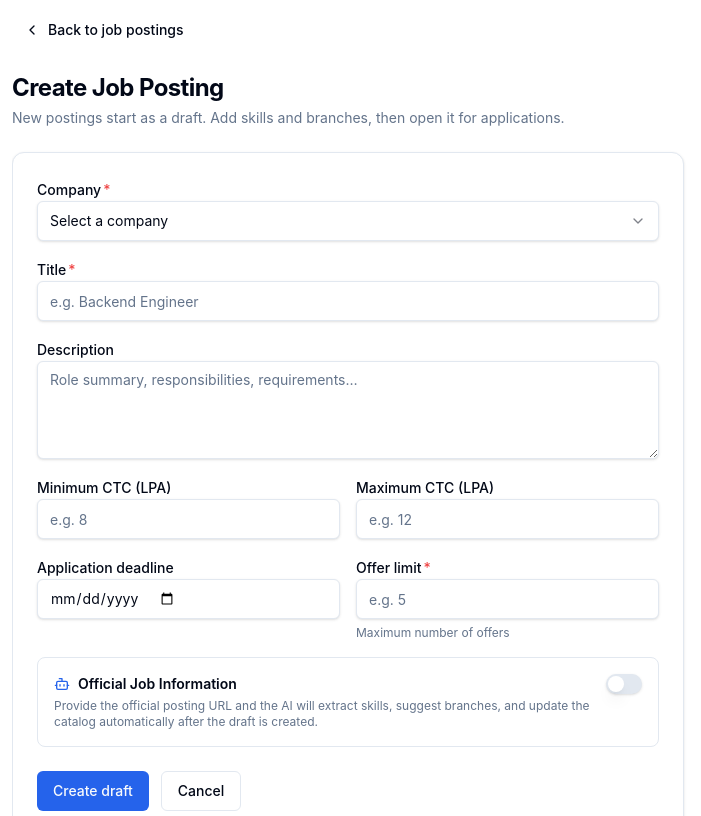
Test case: CreateJobPostingPage › blocks submission and shows validation errors for an empty form
The image size is (701, 816).
Click the button "Create draft".
click(93, 791)  # box [37,771,149,811]
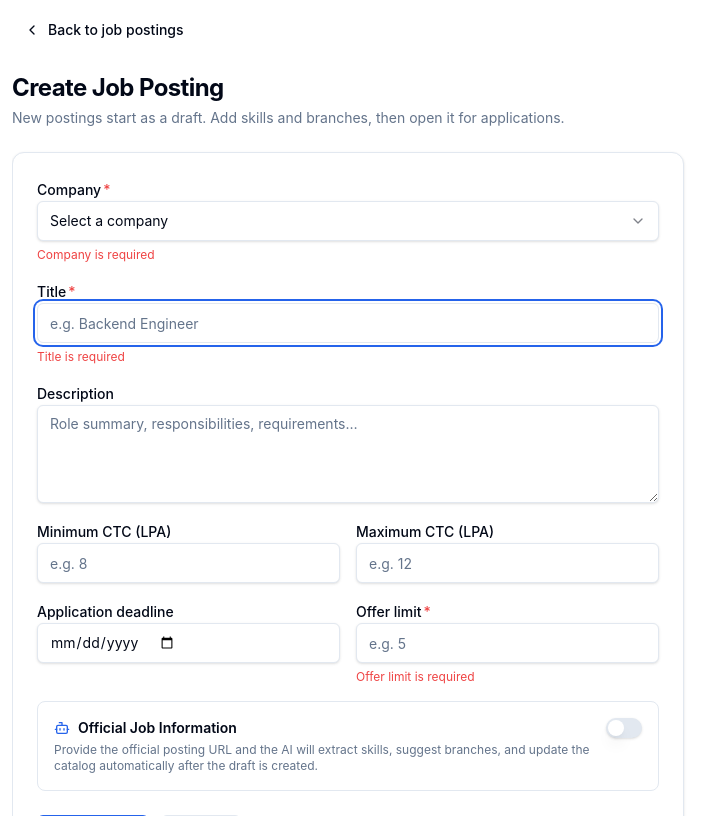
Expected: the text "Company is required" is shown, [37,247,155,262]
Expected: the text "Title is required" is shown, [37,349,125,364]
Expected: the text "Offer limit is required" is shown, [356,669,475,684]
